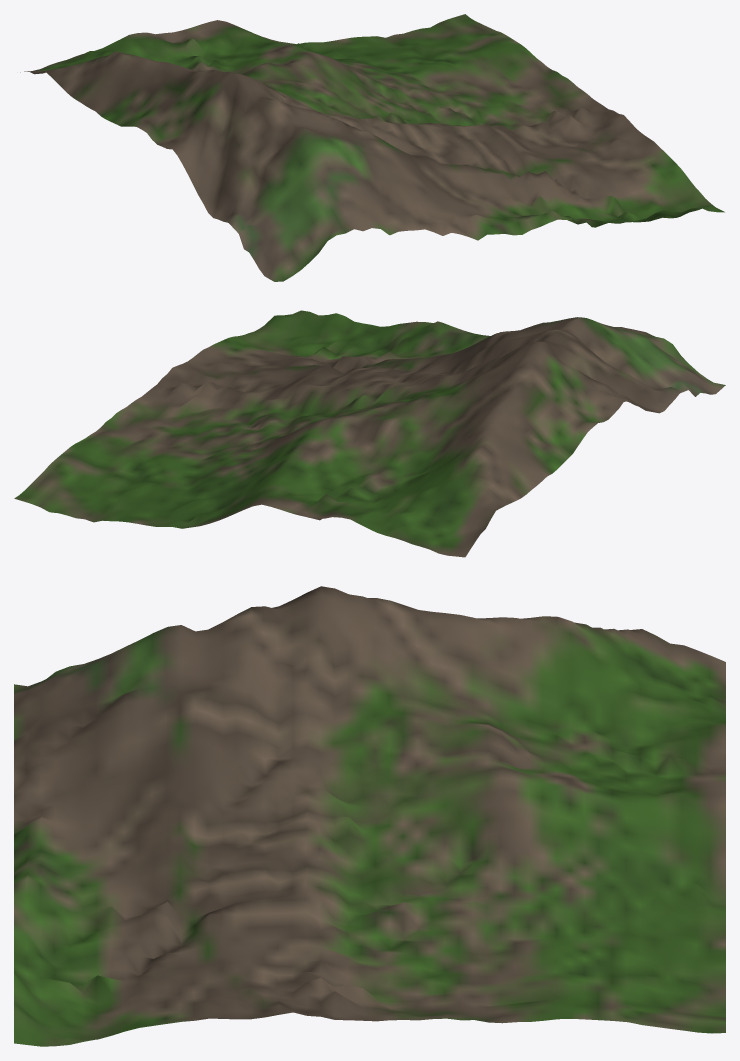
File: chunk7-12_LOD0.obj
3 renders of one model, top to bottom at view 1: azimuth 30°, elevation 25°; view 2: azimuth 150°, elevation 25°; view 3: azimuth 270°, elevation 25°, orthographic. The views are drawn at different scales.
Parts seen in each view (by area): view 1: chunk_7_12_LOD0; view 2: chunk_7_12_LOD0; view 3: chunk_7_12_LOD0.
Part boxes in pixels (x1,y1,x2,y2): chunk_7_12_LOD0: [20, 14, 724, 281]; chunk_7_12_LOD0: [14, 310, 725, 557]; chunk_7_12_LOD0: [14, 586, 725, 1046].
Bounding box in the file's own units: 1994 × 649 × 1994.
1 material, 1 textured.
